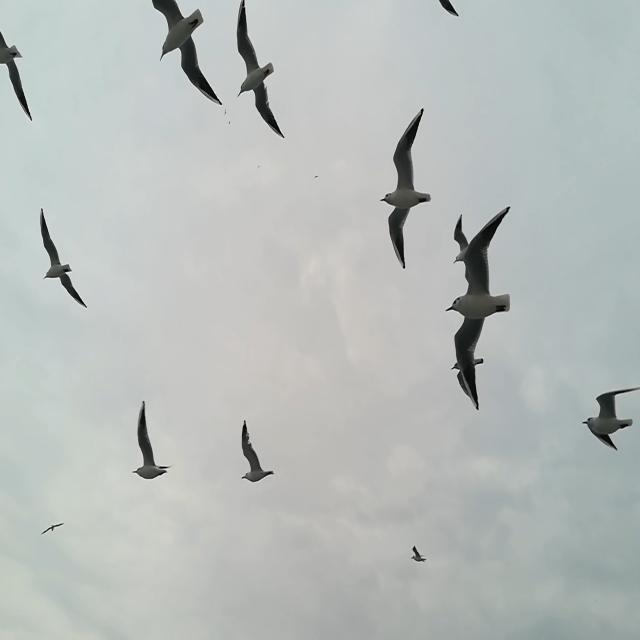bird: (445, 205, 512, 412), (380, 110, 432, 270), (151, 0, 222, 106), (236, 0, 286, 139), (39, 208, 88, 310), (582, 386, 640, 452), (132, 400, 174, 480), (0, 29, 32, 122), (451, 336, 484, 401), (240, 419, 274, 482), (453, 212, 478, 286), (439, 0, 459, 17), (41, 523, 65, 535), (411, 545, 425, 562), (314, 173, 319, 180), (224, 108, 227, 118)
